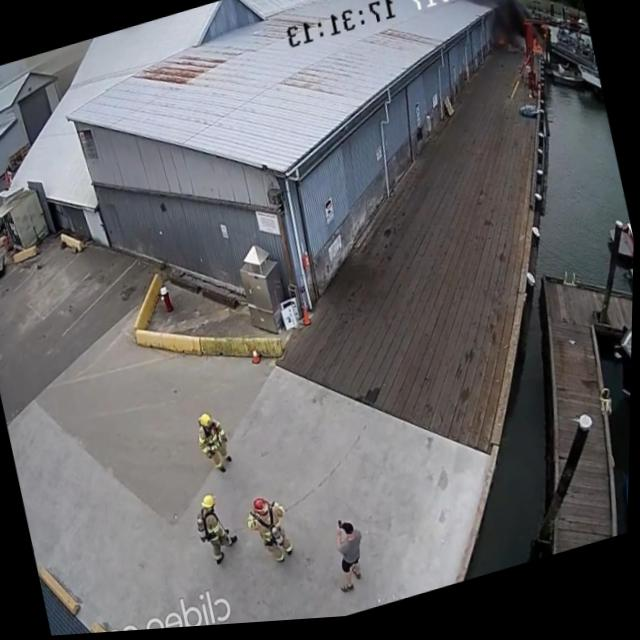fire: (530, 41, 545, 62)
